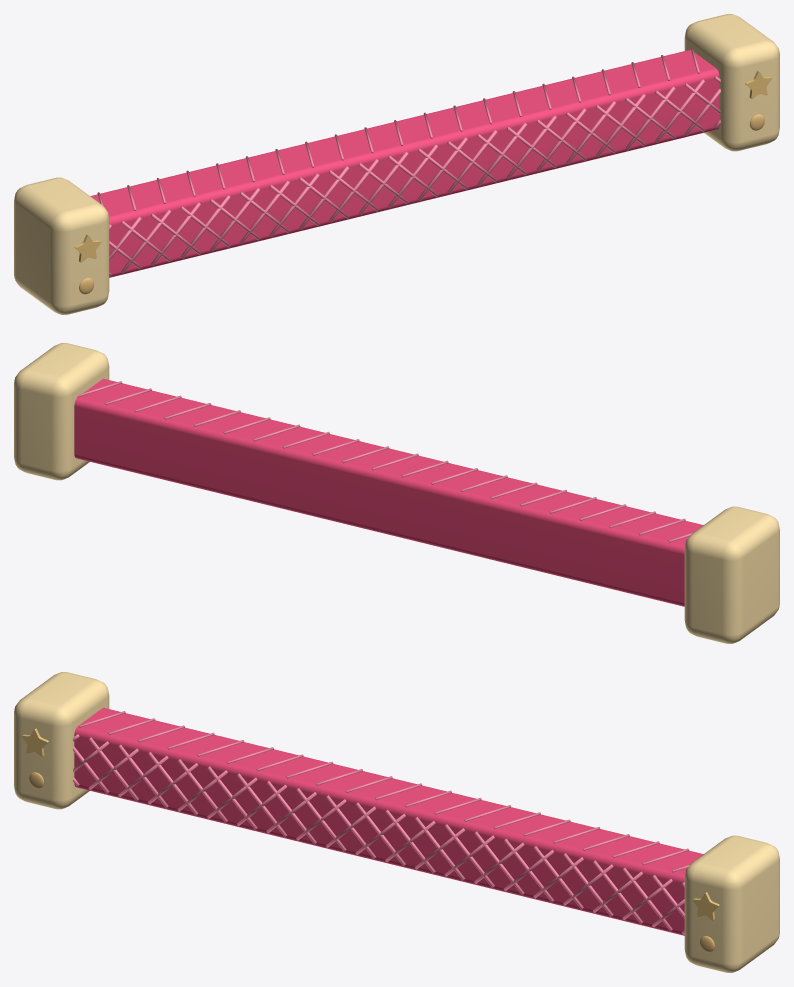
The model's file is wafer_gate.glb.
3 views of the same model, one above another, from view 1: azimuth 30°, elevation 25°; view 2: azimuth 150°, elevation 25°; view 3: azimuth 330°, elevation 25° (orthographic).
Visible parts, largest first — view 1: Breakable_strawberry_wafer, WaferGate_Wafer_relief, Vanilla_gate_support_-1, Vanilla_gate_support_1; view 2: Breakable_strawberry_wafer, Vanilla_gate_support_-1, Vanilla_gate_support_1, WaferGate_Wafer_relief; view 3: Breakable_strawberry_wafer, WaferGate_Wafer_relief, Vanilla_gate_support_1, Vanilla_gate_support_-1.
Part boxes in pixels (<box>): Breakable_strawberry_wafer: <box>90,49,719,277</box>; WaferGate_Wafer_relief: <box>97,48,720,276</box>; Vanilla_gate_support_-1: <box>14,177,109,314</box>; Vanilla_gate_support_1: <box>684,14,779,151</box>; Breakable_strawberry_wafer: <box>74,378,703,606</box>; Vanilla_gate_support_-1: <box>684,506,779,643</box>; Vanilla_gate_support_1: <box>14,343,109,480</box>; WaferGate_Wafer_relief: <box>77,381,692,542</box>; Breakable_strawberry_wafer: <box>74,707,703,935</box>; WaferGate_Wafer_relief: <box>73,711,689,934</box>; Vanilla_gate_support_1: <box>684,835,779,972</box>; Vanilla_gate_support_-1: <box>14,672,109,809</box>.
Bounding box in the file's own units: 6.38 × 0.86 × 0.791.
